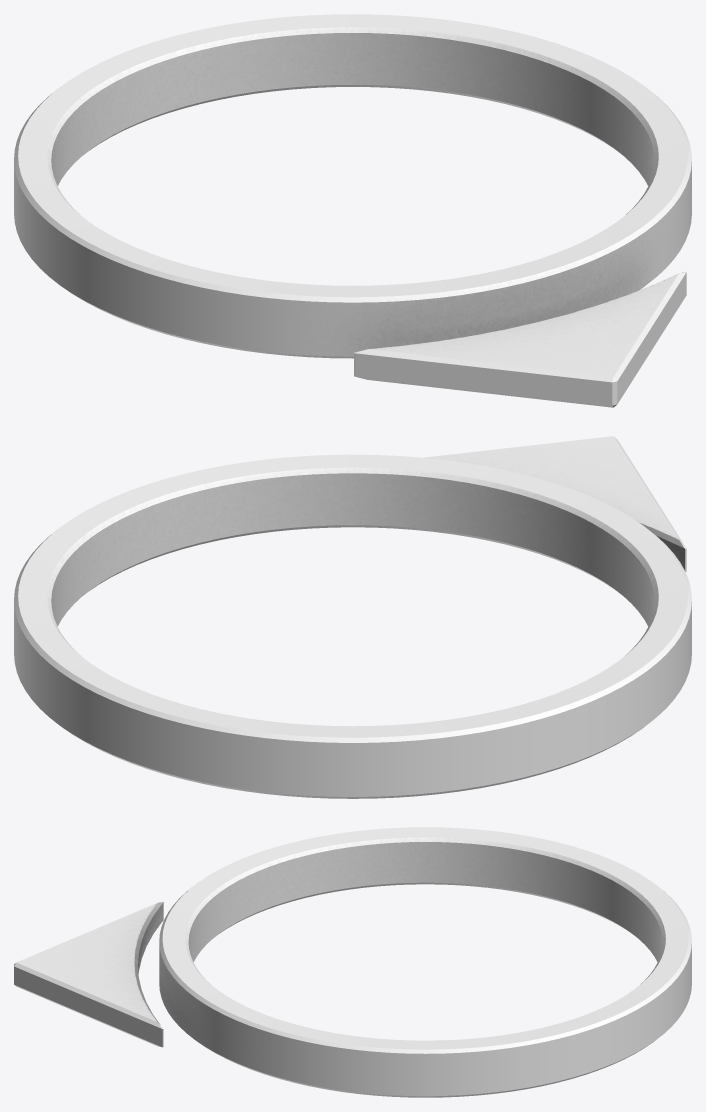
File: vrteleportdestination.gltf
3 renders of one model, top to bottom at view 1: azimuth 30°, elevation 25°; view 2: azimuth 150°, elevation 25°; view 3: azimuth 270°, elevation 25°, orthographic. The views are drawn at different scales.
Visible parts, largest first — view 1: VRTeleportDestination; view 2: VRTeleportDestination; view 3: VRTeleportDestination.
Boxes of the visible parts, x1,y1,x2,y2 form: VRTeleportDestination: (14,14,691,407); VRTeleportDestination: (14,436,691,798); VRTeleportDestination: (14,827,691,1097).
Size of the model in its own units: 0.6 by 0.0599 by 0.7636.
